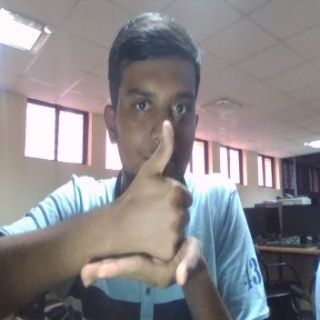Help: (74, 120, 209, 289)
